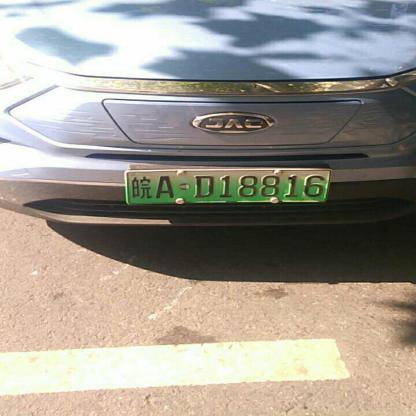lp: (127, 170, 329, 202)
